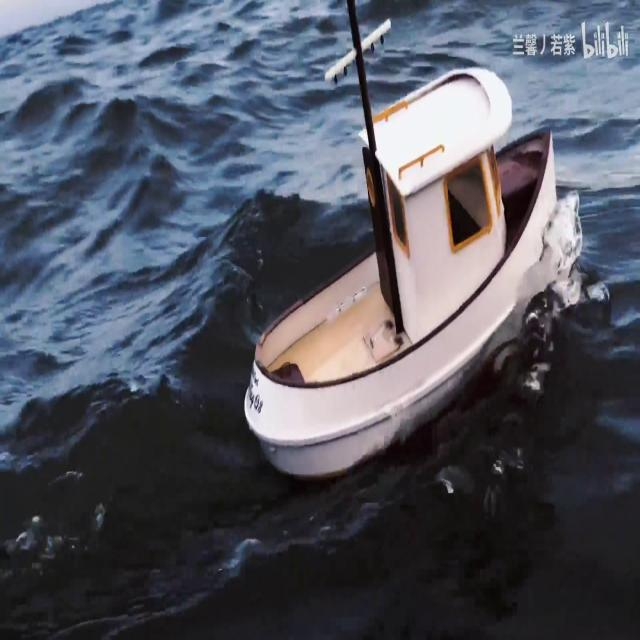houseboat: (239, 1, 563, 470)
